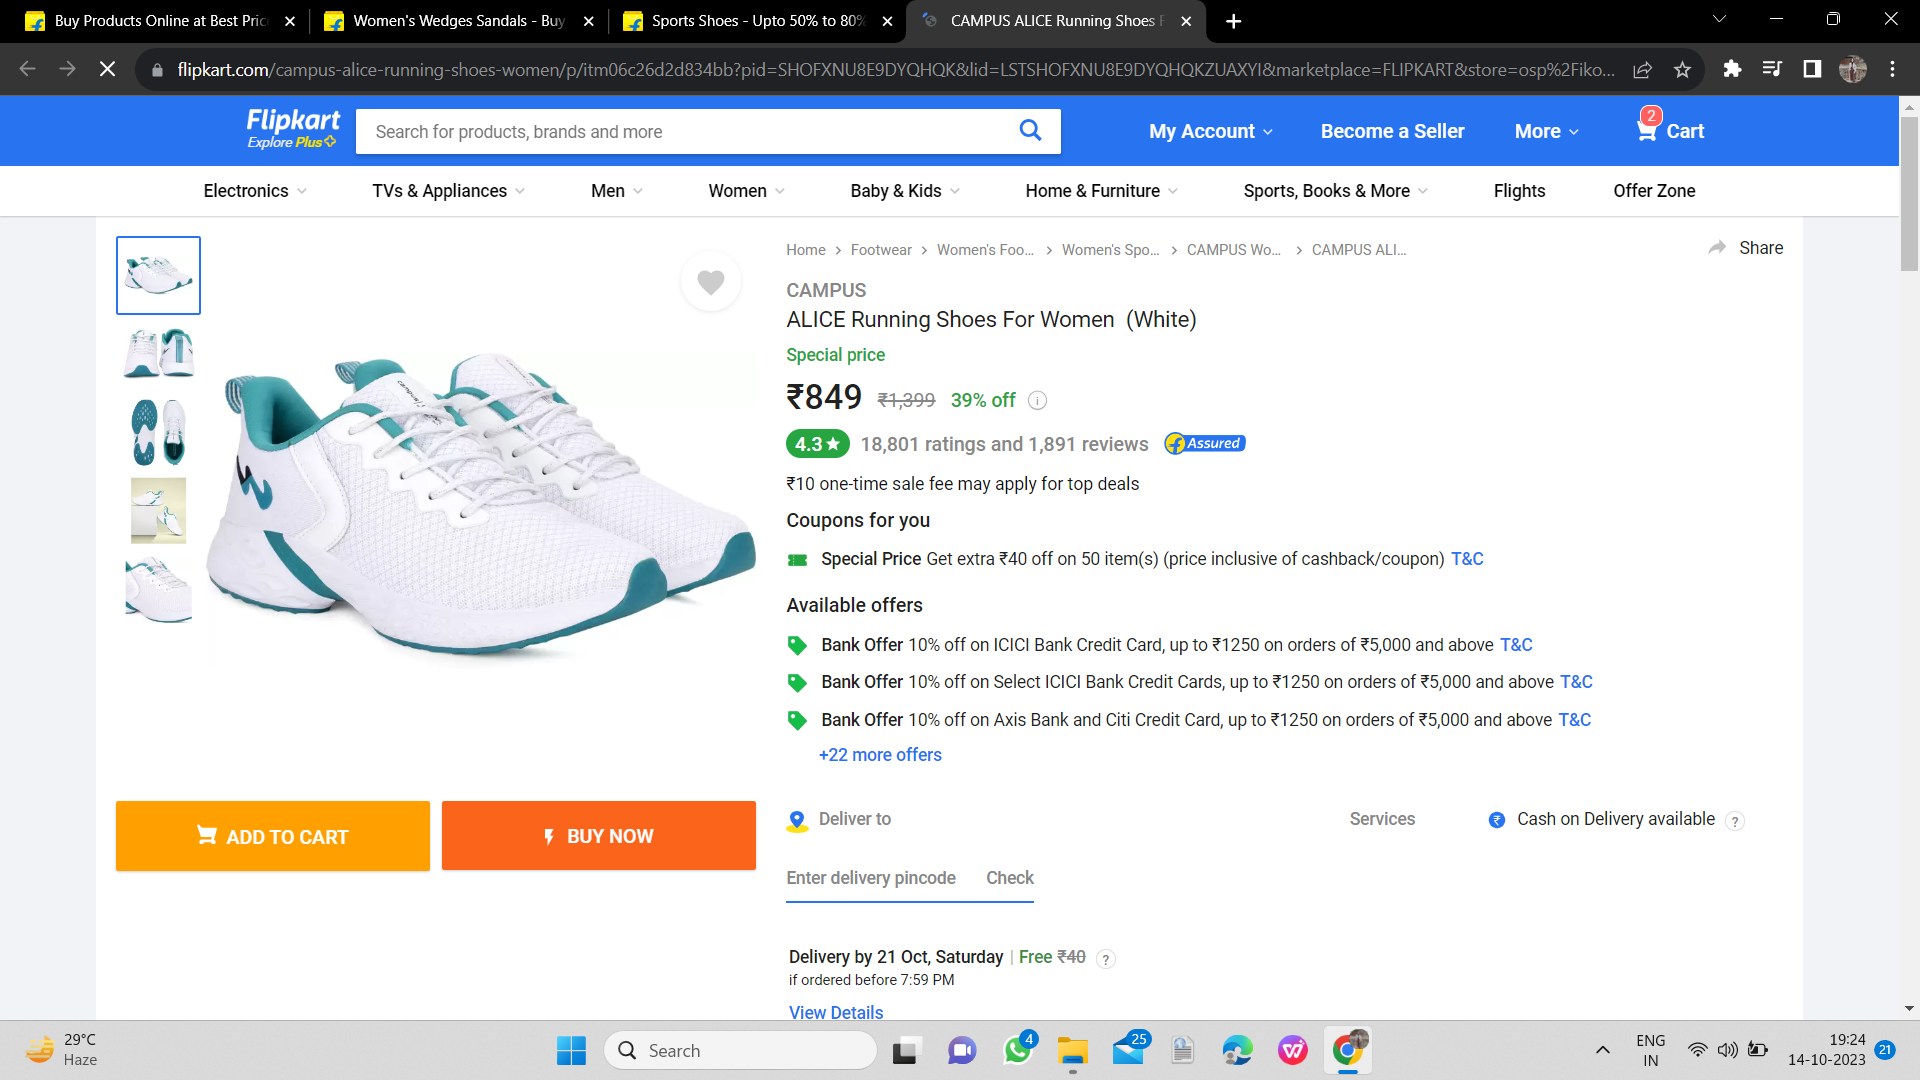Image: (223, 237, 767, 682)
Paragraph: (774, 625, 1604, 770), (98, 790, 767, 889), (1122, 91, 1717, 160), (774, 276, 1215, 340), (773, 798, 1038, 891), (791, 543, 1497, 574), (767, 418, 1253, 462), (773, 345, 1025, 414), (1337, 804, 1716, 835), (766, 471, 1141, 496), (774, 943, 1007, 973), (781, 505, 939, 530), (779, 597, 951, 620)
